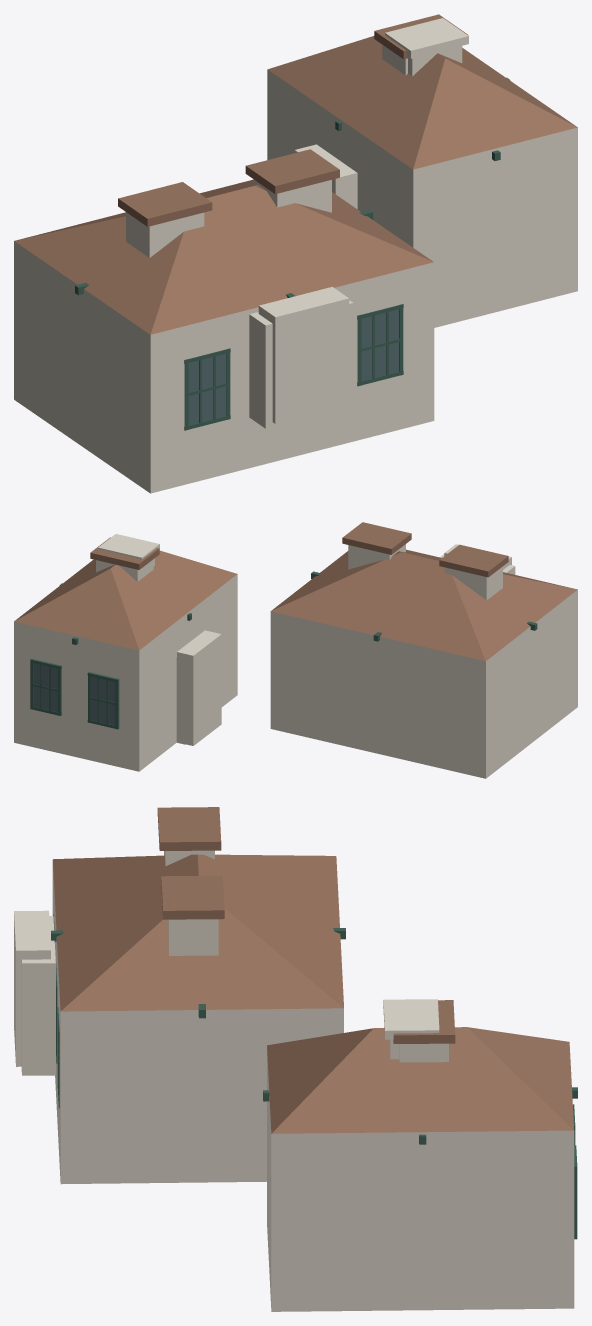
File: villa-le-bec-hero.glb
3 renders of one model, top to bottom at view 1: azimuth 30°, elevation 25°; view 2: azimuth 150°, elevation 25°; view 3: azimuth 270°, elevation 25°, orthographic. The views are drawn at different scales.
Visible parts, largest first — view 1: villa-le-bec-hero; view 2: villa-le-bec-hero; view 3: villa-le-bec-hero.
Boxes of the visible parts, x1=… form: villa-le-bec-hero: x1=14, y1=14, x2=577, y2=493; villa-le-bec-hero: x1=14, y1=522, x2=577, y2=778; villa-le-bec-hero: x1=14, y1=807, x2=577, y2=1311.
Bounding box in the file's own units: 11.15 × 4.58 × 9.33.
